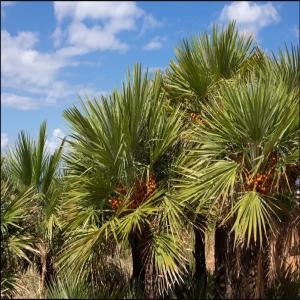palm tree: (54, 60, 209, 298), (1, 118, 70, 298)
